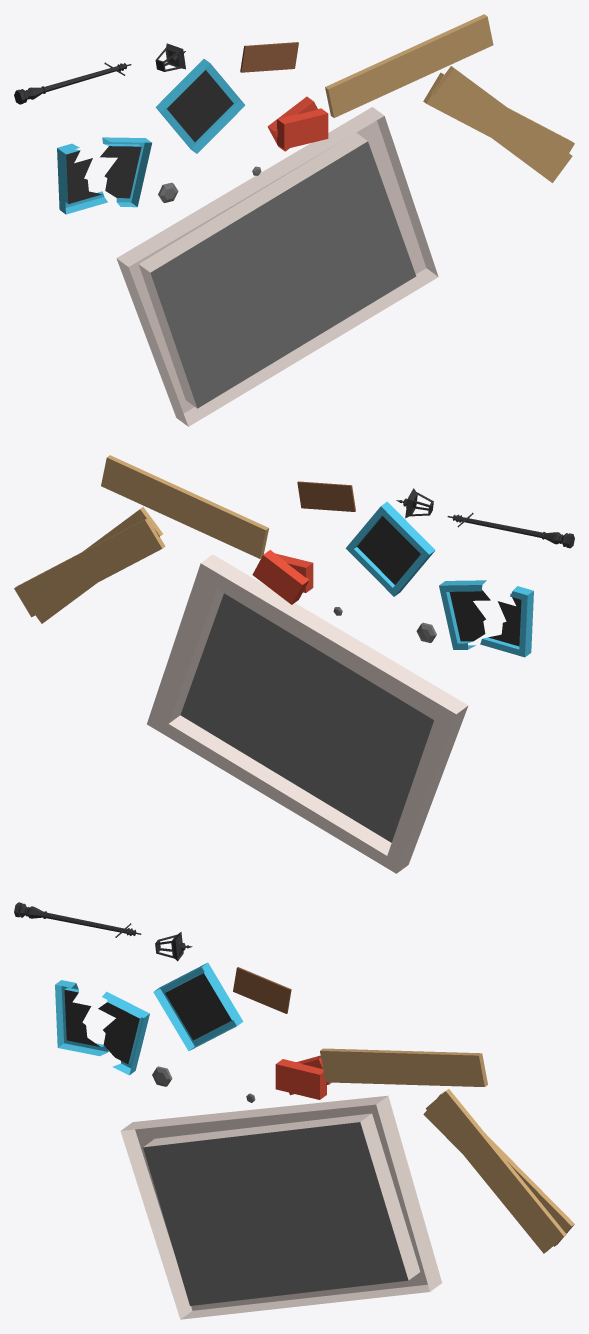
File: SM_HouseRuined.FBX
3 views of the same model, one above another, from view 1: azimuth 30°, elevation 25°; view 2: azimuth 150°, elevation 25°; view 3: azimuth 330°, elevation 25° (orthographic).
Visible parts, largest first — view 1: Object004; view 2: Object004; view 3: Object004.
Boxes of the visible parts, bbox=[...] form: Object004: bbox=[14, 14, 574, 426]; Object004: bbox=[14, 455, 574, 873]; Object004: bbox=[14, 902, 574, 1319].
Bounding box in the file's own units: 462 × 25.27 × 301.
